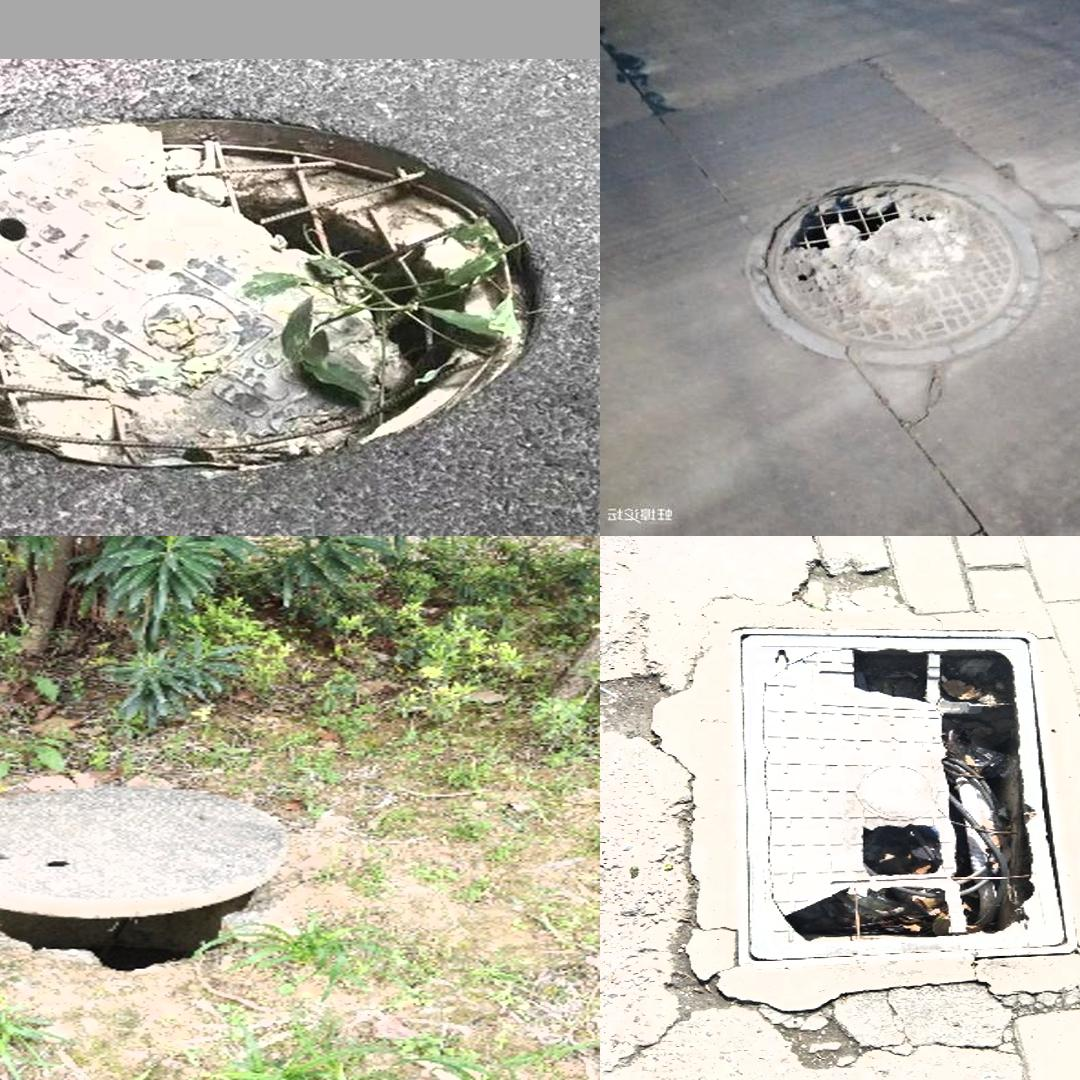broke: (0, 108, 552, 475), (731, 627, 1076, 964), (741, 165, 1049, 361), (0, 783, 294, 922)
